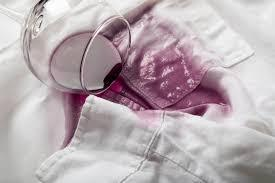wine: (109, 65, 223, 112), (62, 89, 85, 145), (128, 99, 160, 130)
